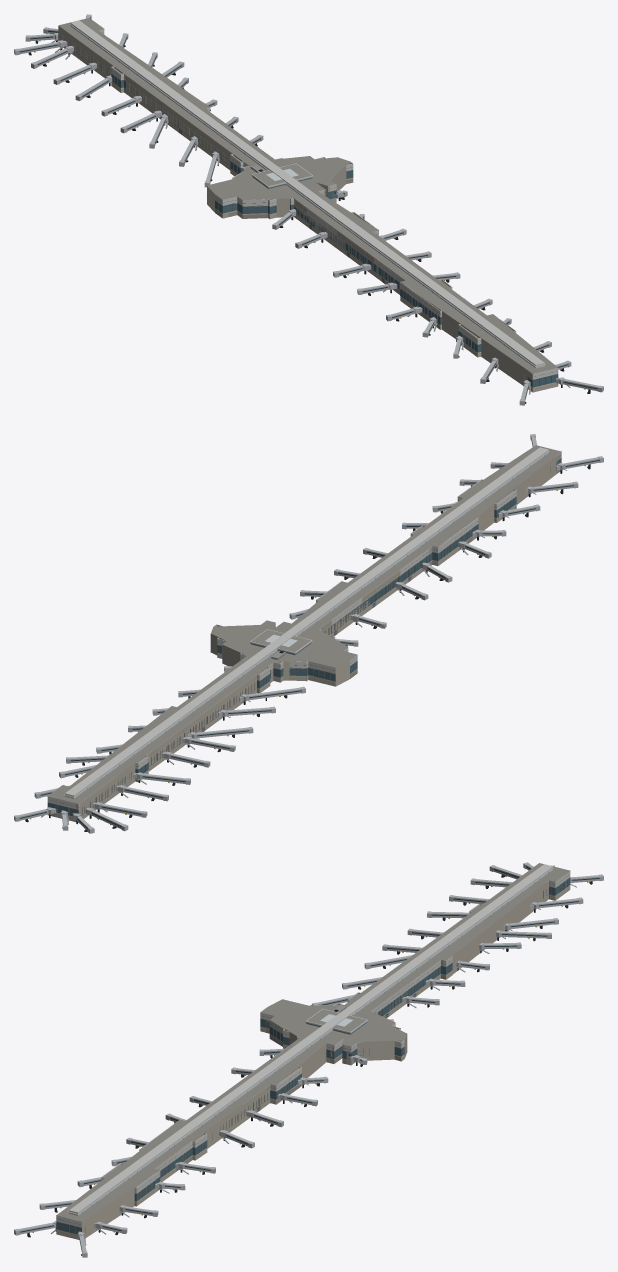
The model's file is atl-concourse-d.glb.
3 views of the same model, one above another, from view 1: azimuth 30°, elevation 25°; view 2: azimuth 150°, elevation 25°; view 3: azimuth 330°, elevation 25° (orthographic).
Parts seen in each view (by area): view 1: lod2_lm_stone, lod0_lm_metal, lod2_bld_wall, lod1_lm_stone, lod0_bld_glass, lod0_lm_lit, lod0_lm_glass, lod2_lm_lit, lod0_bld_wall, lod1_bld_glass; view 2: lod2_lm_stone, lod0_lm_metal, lod1_lm_stone, lod2_bld_wall, lod0_lm_glass, lod0_bld_glass, lod0_lm_lit, lod2_lm_lit, lod1_bld_glass, lod0_bld_wall; view 3: lod2_lm_stone, lod0_lm_metal, lod1_lm_stone, lod2_bld_wall, lod0_bld_glass, lod0_lm_glass, lod2_lm_lit, lod0_bld_wall, lod1_bld_glass, lod0_lm_lit.
Part boxes in pixels (<box>): lod2_lm_stone: <box>59,18,557,373</box>; lod0_lm_metal: <box>14,14,603,405</box>; lod2_bld_wall: <box>58,27,533,391</box>; lod1_lm_stone: <box>19,16,603,404</box>; lod0_bld_glass: <box>58,32,558,387</box>; lod0_lm_lit: <box>70,25,535,367</box>; lod0_lm_glass: <box>19,18,597,399</box>; lod2_lm_lit: <box>70,23,535,365</box>; lod0_bld_wall: <box>111,82,558,392</box>; lod1_bld_glass: <box>123,80,532,386</box>; lod2_lm_stone: <box>48,445,561,803</box>; lod0_lm_metal: <box>14,434,603,833</box>; lod1_lm_stone: <box>18,434,603,833</box>; lod2_bld_wall: <box>76,452,561,818</box>; lod0_lm_glass: <box>20,438,599,829</box>; lod0_bld_glass: <box>47,458,561,815</box>; lod0_lm_lit: <box>74,452,548,798</box>; lod2_lm_lit: <box>74,450,548,796</box>; lod1_bld_glass: <box>217,458,561,687</box>; lod0_bld_wall: <box>48,505,516,822</box>; lod2_lm_stone: <box>56,863,569,1221</box>; lod0_lm_metal: <box>14,862,603,1257</box>; lod1_lm_stone: <box>14,864,603,1253</box>; lod2_bld_wall: <box>56,871,569,1237</box>; lod0_bld_glass: <box>56,877,570,1233</box>; lod0_lm_glass: <box>20,866,599,1251</box>; lod2_lm_lit: <box>78,867,552,1213</box>; lod0_bld_wall: <box>56,886,570,1239</box>; lod1_bld_glass: <box>134,879,567,1201</box>; lod0_lm_lit: <box>78,987,391,1215</box>.
Bounding box in the file's own units: 105 × 16.5 × 691.
